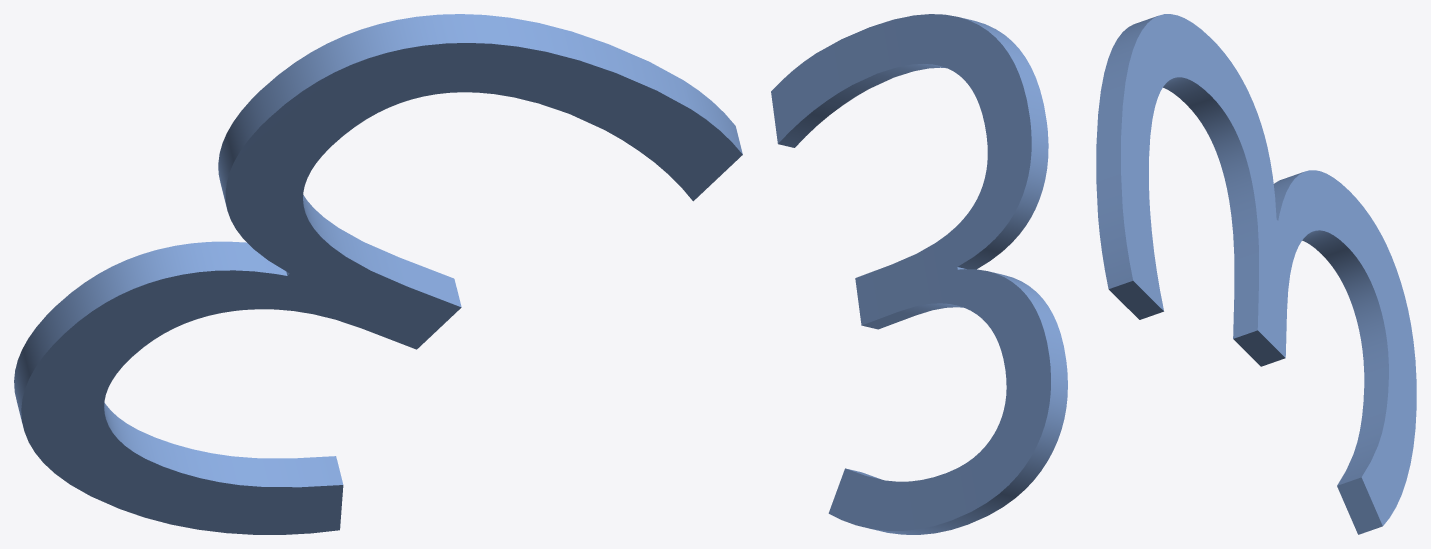
The model's file is New_Number_3.gltf.
3 views of the same model, side by side, from view 1: azimuth 30°, elevation 25°; view 2: azimuth 150°, elevation 25°; view 3: azimuth 270°, elevation 25° (orthographic). The views are drawn at different scales.
Parts seen in each view (by area): view 1: Part 39; view 2: Part 39; view 3: Part 39.
Boxes of the visible parts, x1,y1,x2,y2 form: Part 39: (14, 14, 742, 534); Part 39: (771, 14, 1067, 534); Part 39: (1096, 14, 1416, 534).
Bounding box in the file's own units: 0.00449 × 0.00474 × 0.00281.
